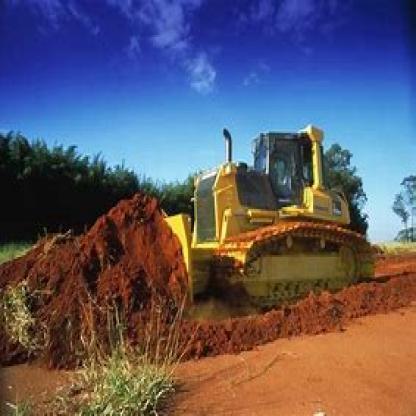bull_dozer/loader/grader: (113, 111, 381, 318)
